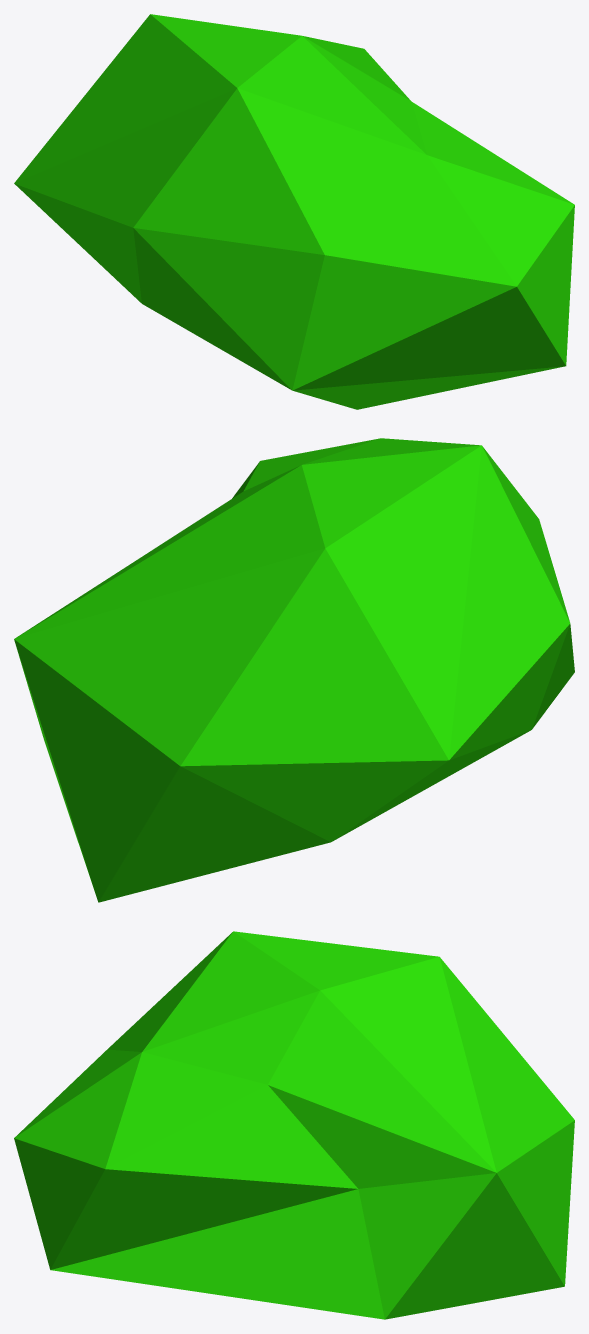
File: Bush#8.fbx
3 renders of one model, top to bottom at view 1: azimuth 30°, elevation 25°; view 2: azimuth 150°, elevation 25°; view 3: azimuth 270°, elevation 25°, orthographic. The views are drawn at different scales.
Visible parts, largest first — view 1: Bush#8; view 2: Bush#8; view 3: Bush#8.
Part boxes in pixels (box(x1,y1,x2,y2)): Bush#8: box(14, 14, 574, 409); Bush#8: box(14, 438, 574, 902); Bush#8: box(14, 931, 574, 1319).
Size of the model in its own units: 300 by 226 by 397.
